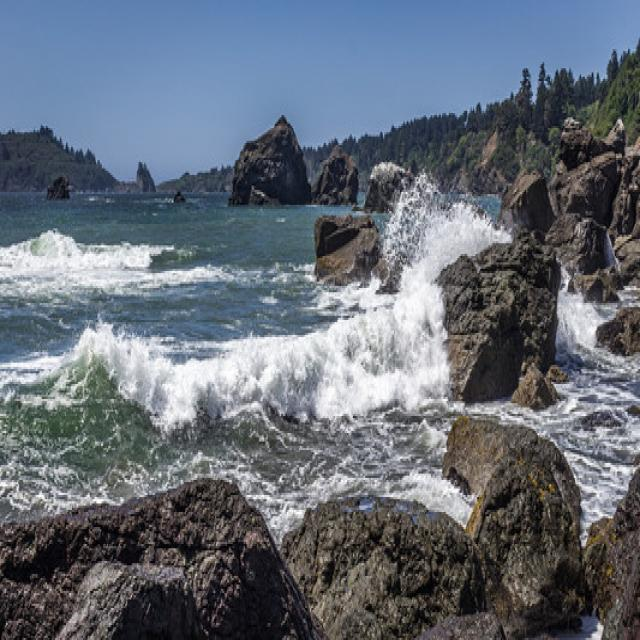reef: (428, 255, 618, 640), (305, 200, 404, 295), (45, 164, 77, 214)
